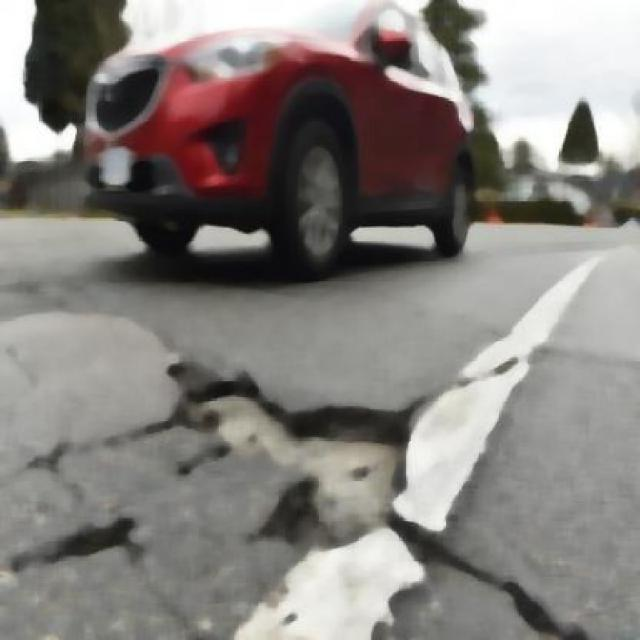pothole: (174, 365, 411, 541)
